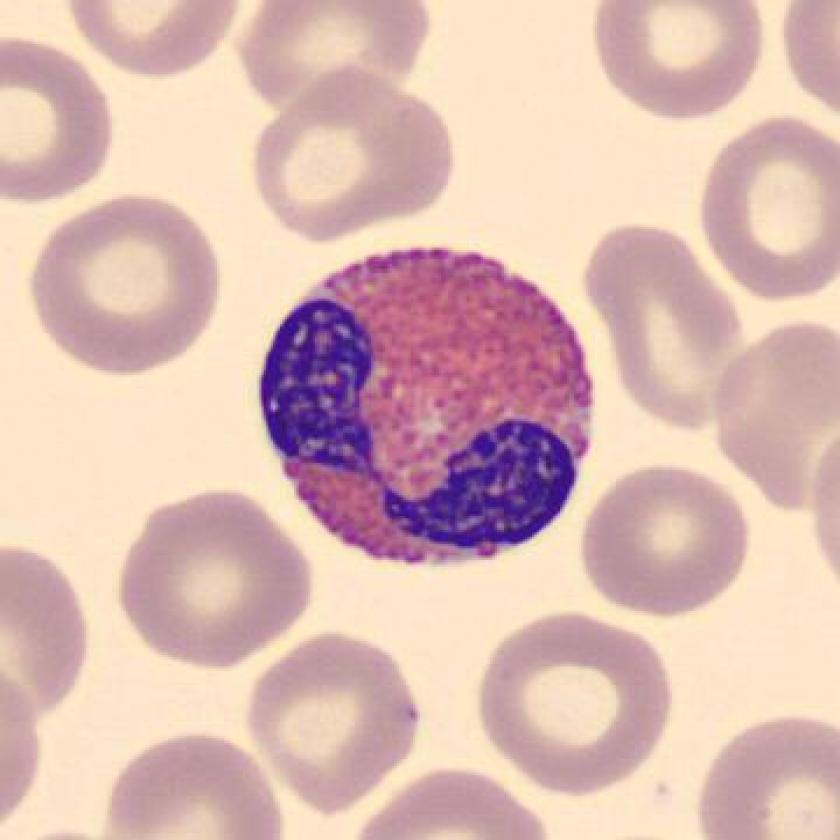eosinophil: (251, 237, 608, 577)
